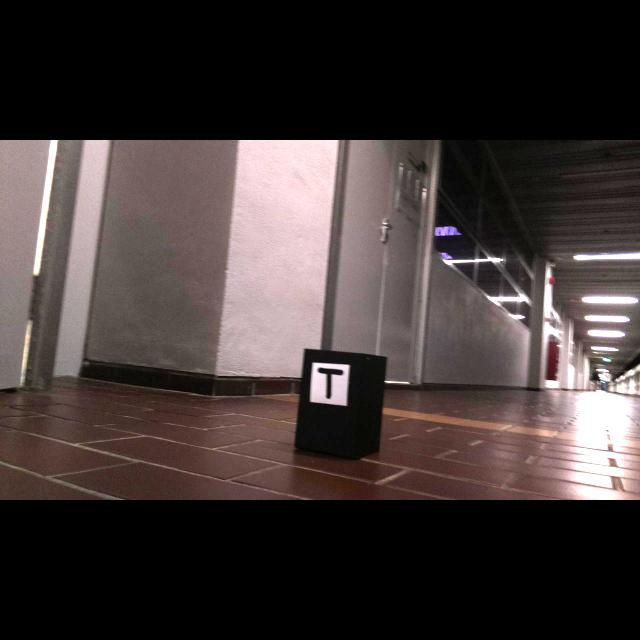T: (318, 367, 344, 399)
